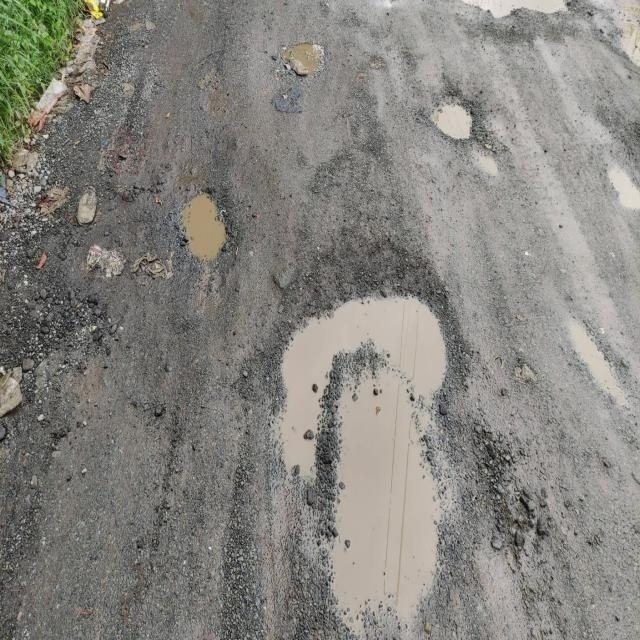pothole: (271, 229, 494, 640), (166, 148, 254, 294), (429, 68, 486, 175)
